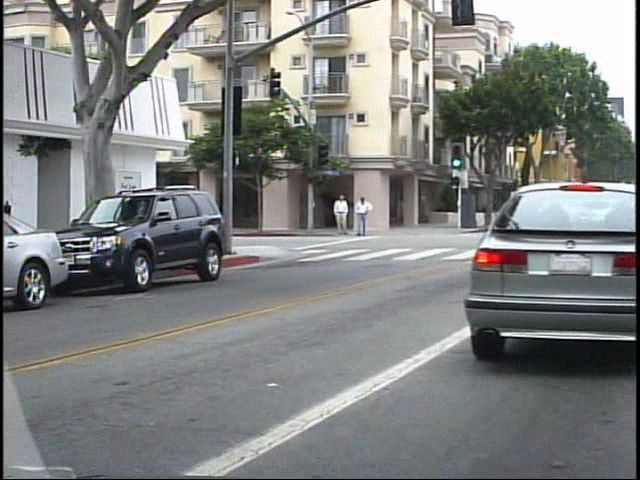person: (331, 192, 350, 243), (351, 193, 370, 238)
